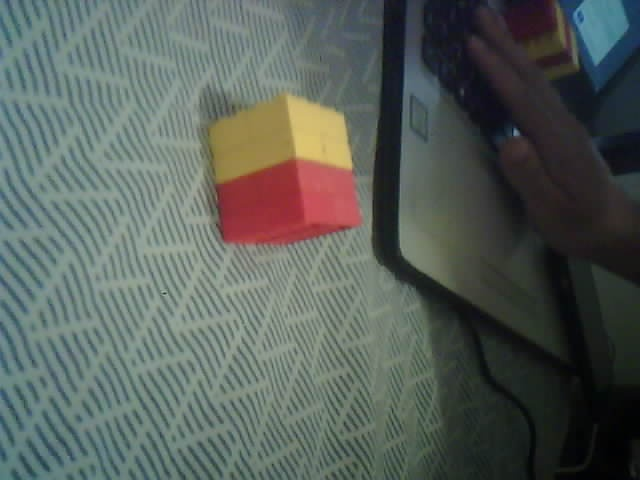lego: (207, 92, 364, 248), (505, 1, 580, 82)
